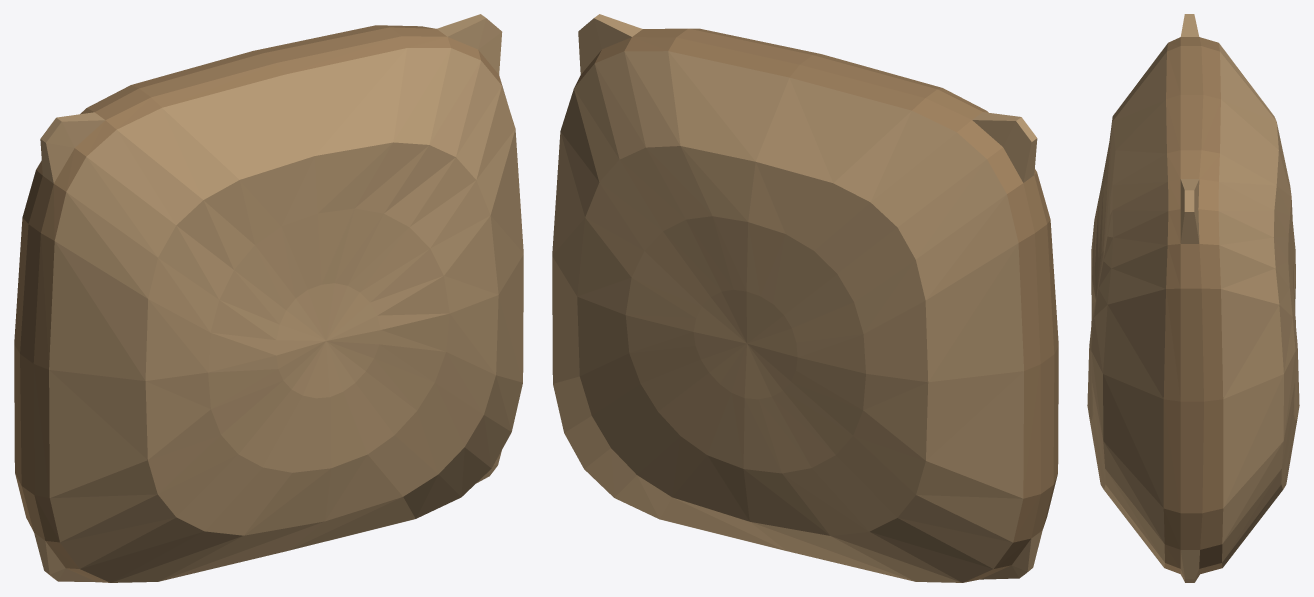
File: cushion-121479.glb
3 renders of one model, left to right at view 1: azimuth 30°, elevation 25°; view 2: azimuth 150°, elevation 25°; view 3: azimuth 270°, elevation 25°, orthographic. The views are drawn at different scales.
Visible parts, largest first — view 1: scatter-cushion; view 2: scatter-cushion; view 3: scatter-cushion.
Part boxes in pixels (x1,y1,x2,y2): scatter-cushion: (14, 14, 523, 582); scatter-cushion: (552, 14, 1058, 582); scatter-cushion: (1087, 14, 1299, 582).
Bounding box in the file's own units: 0.45 × 0.4249 × 0.1999.
